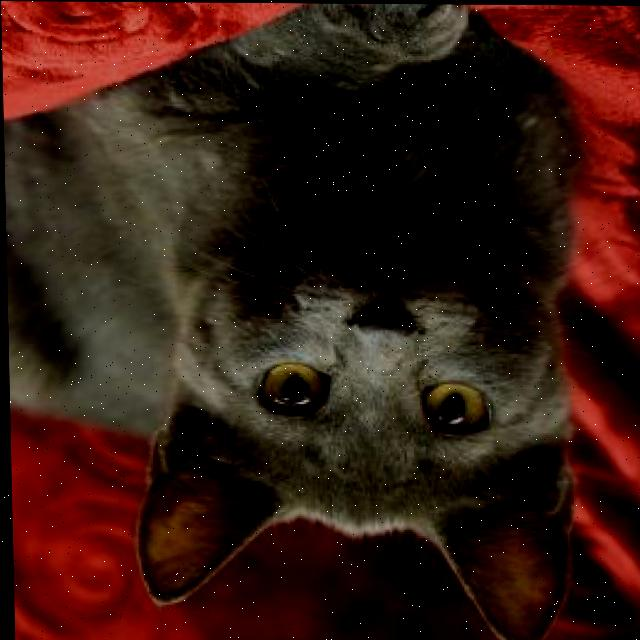Russian Blue: (0, 0, 585, 640)
